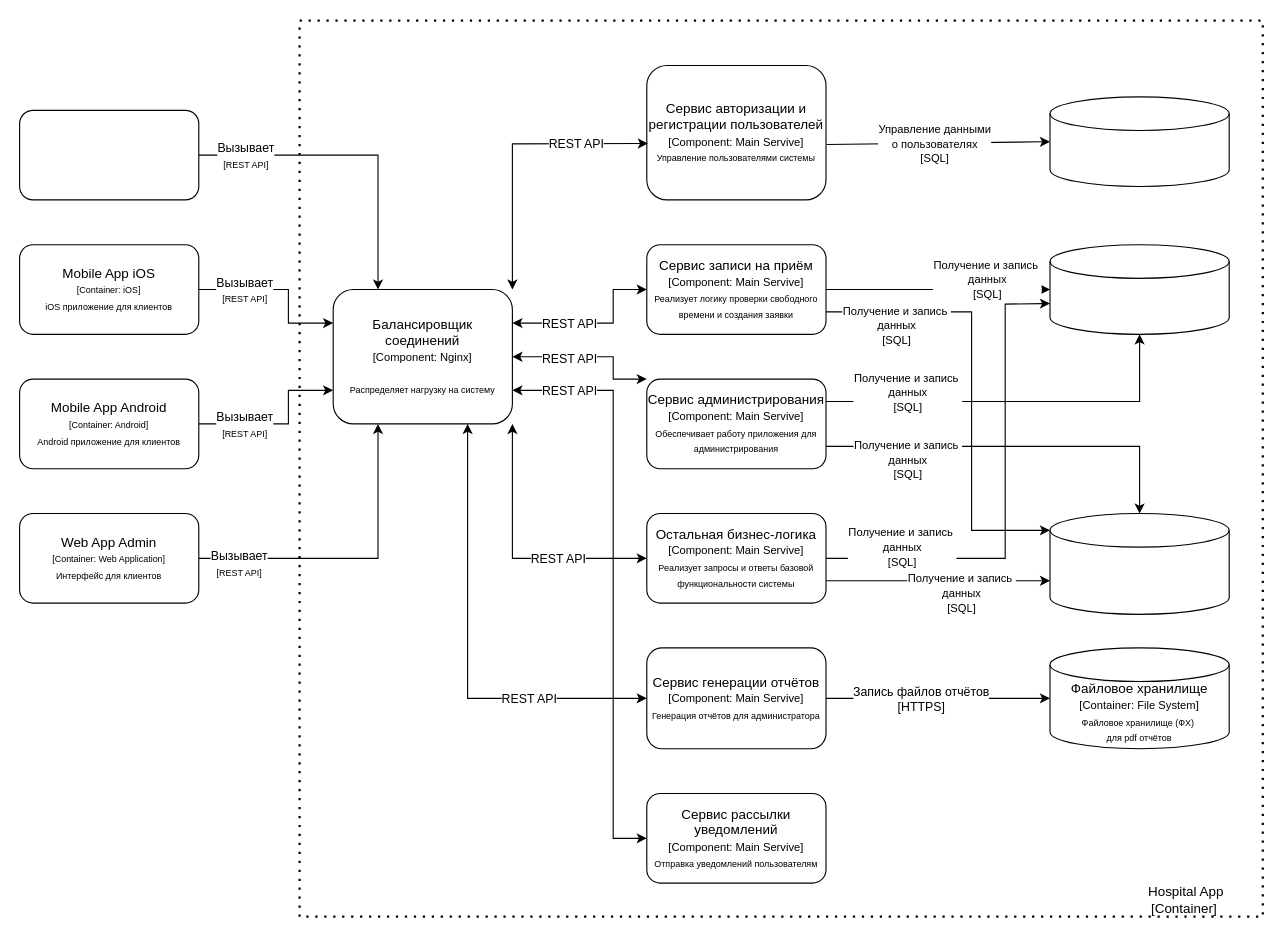
The diagram is 1285 pixels wide and 937 high, and some of its shapes have lost their labels. Here are the shapes that lost their labels. From the top down, the box of each, then its label:
(18, 109, 199, 200): Web-приложение [Container: Web Application ] Интерфейс для клиентов
(1049, 96, 1229, 186): БД Пользователей [Container: SQLite] Данные о регистрации, о авторизации
(1049, 244, 1229, 334): БД Основная [Container: SQLite] Общие данные о системе
(1049, 512, 1229, 614): БД Резервная [Container: SQLite] Дубликат основной бд
